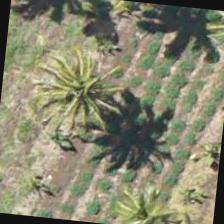Kelapa_Sawit: (28, 37, 127, 136), (102, 167, 198, 223)
